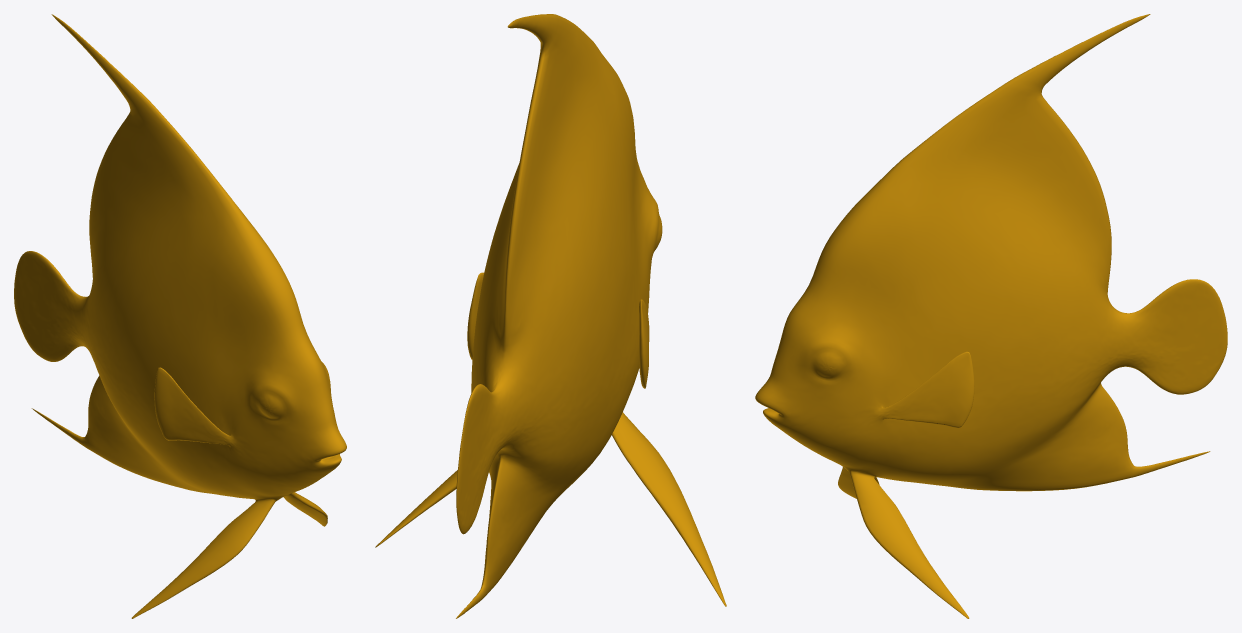
The model's file is Small_Angel_Fish.fbx.
3 renders of one model, left to right at view 1: azimuth 30°, elevation 25°; view 2: azimuth 150°, elevation 25°; view 3: azimuth 270°, elevation 25°, orthographic. The views are drawn at different scales.
Visible parts, largest first — view 1: Angel_Fish2; view 2: Angel_Fish2; view 3: Angel_Fish2.
Part boxes in pixels (x1=…): Angel_Fish2: x1=14, y1=14, x2=346, y2=618; Angel_Fish2: x1=375, y1=14, x2=726, y2=618; Angel_Fish2: x1=755, y1=14, x2=1227, y2=618.
Size of what is drawn, in the model's own units: 46.86 by 81.89 by 100.
